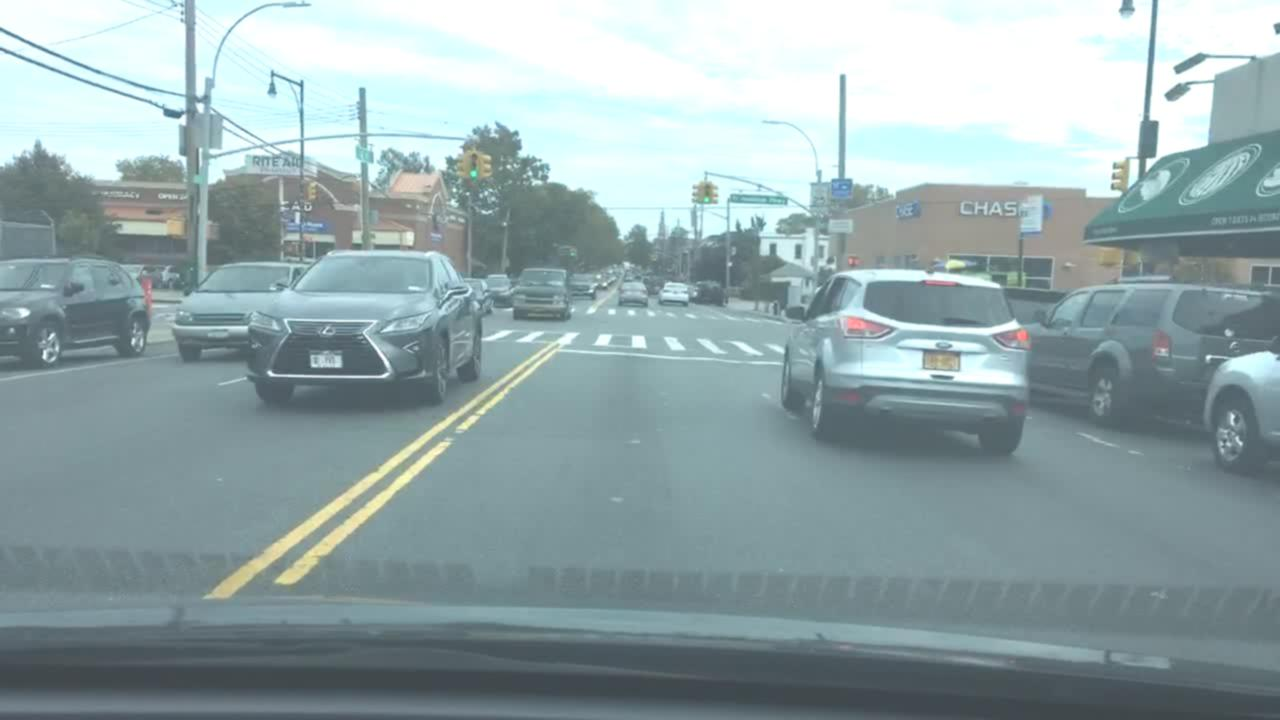ford: (932, 336, 956, 354)
lexus: (317, 322, 339, 343)
